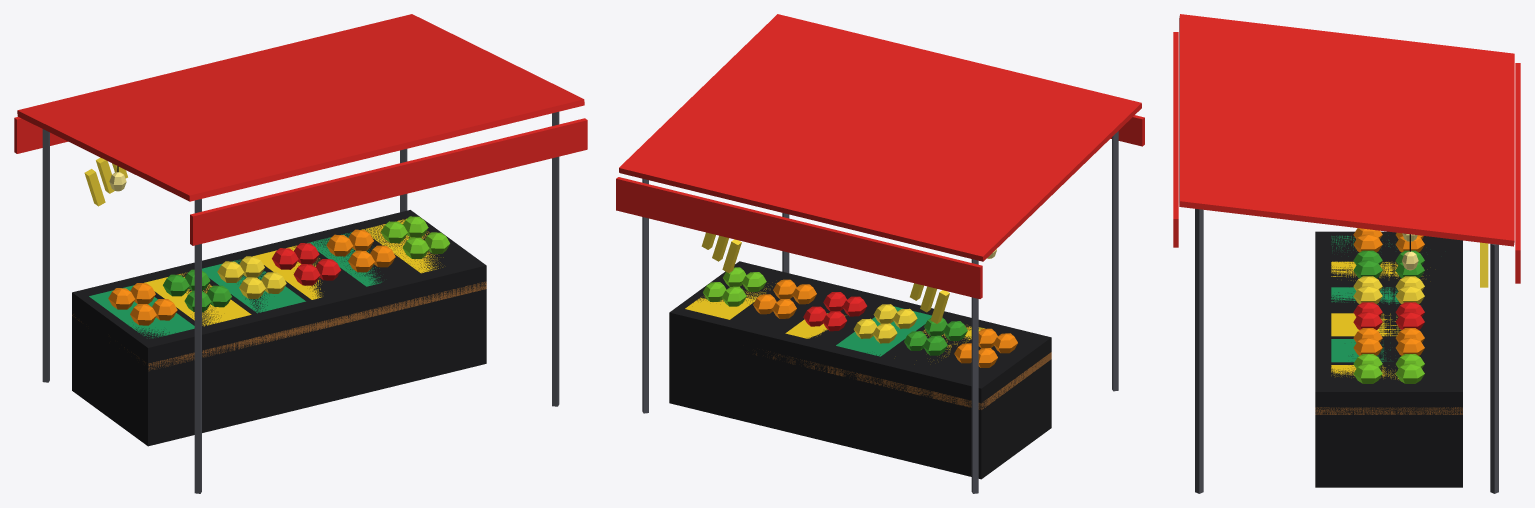
The model's file is env_market_canopy_red.fbx.
3 renders of one model, left to right at view 1: azimuth 30°, elevation 25°; view 2: azimuth 150°, elevation 25°; view 3: azimuth 270°, elevation 25°, orthographic. The views are drawn at different scales.
Parts seen in each view (by area): view 1: env_market_canopy_red_geo_LOD0, COL_env_market_canopy_red; view 2: env_market_canopy_red_geo_LOD0, COL_env_market_canopy_red; view 3: env_market_canopy_red_geo_LOD0, COL_env_market_canopy_red.
Boxes of the visible parts, bbox=[...] form: env_market_canopy_red_geo_LOD0: bbox=[14, 14, 587, 493]; COL_env_market_canopy_red: bbox=[72, 210, 486, 446]; env_market_canopy_red_geo_LOD0: bbox=[616, 14, 1144, 493]; COL_env_market_canopy_red: bbox=[669, 261, 1051, 479]; env_market_canopy_red_geo_LOD0: bbox=[1173, 14, 1520, 493]; COL_env_market_canopy_red: bbox=[1315, 231, 1462, 487].
Size of what is drawn, in the model's own units: 4.2 by 3.14 by 3.29.
